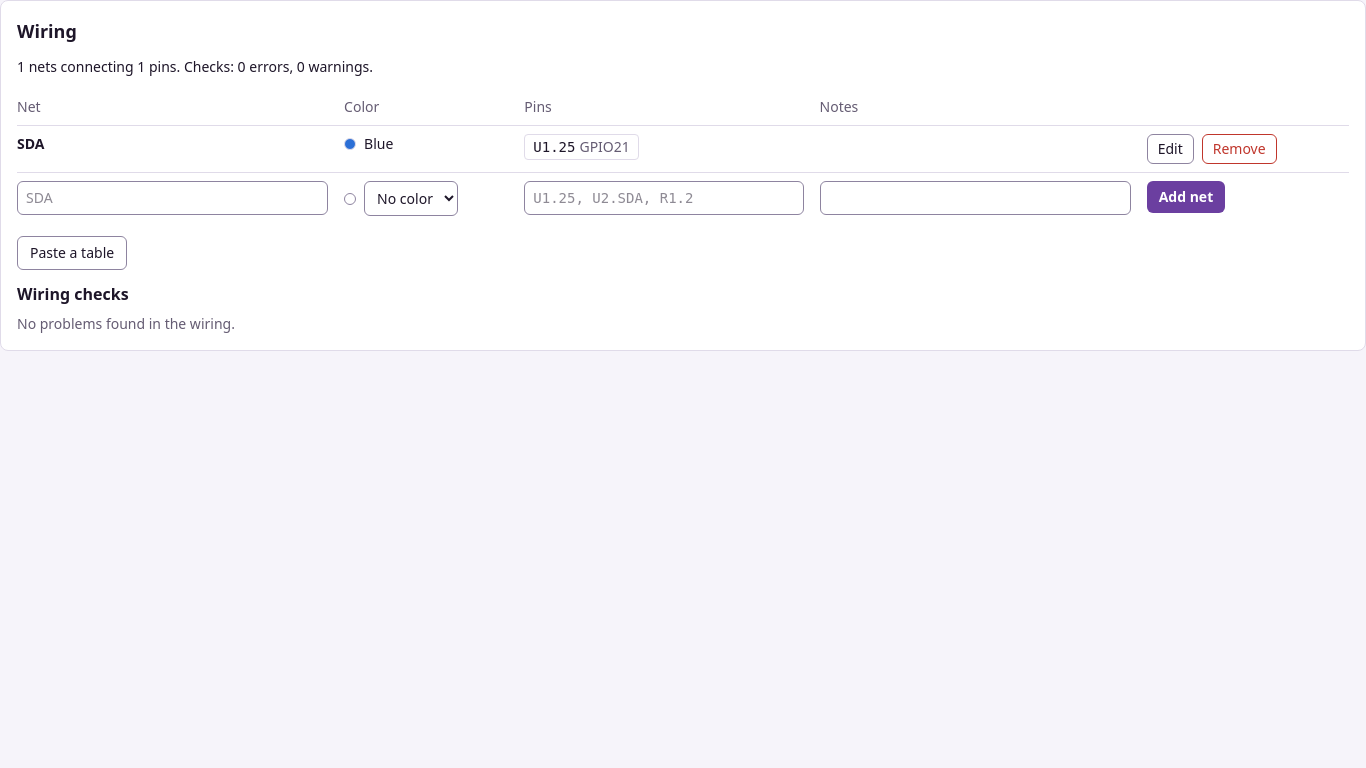
pasting wiring › closes without adding anything
Click the button "Paste a table" at coordinates (72, 253), box [17,236,127,270]
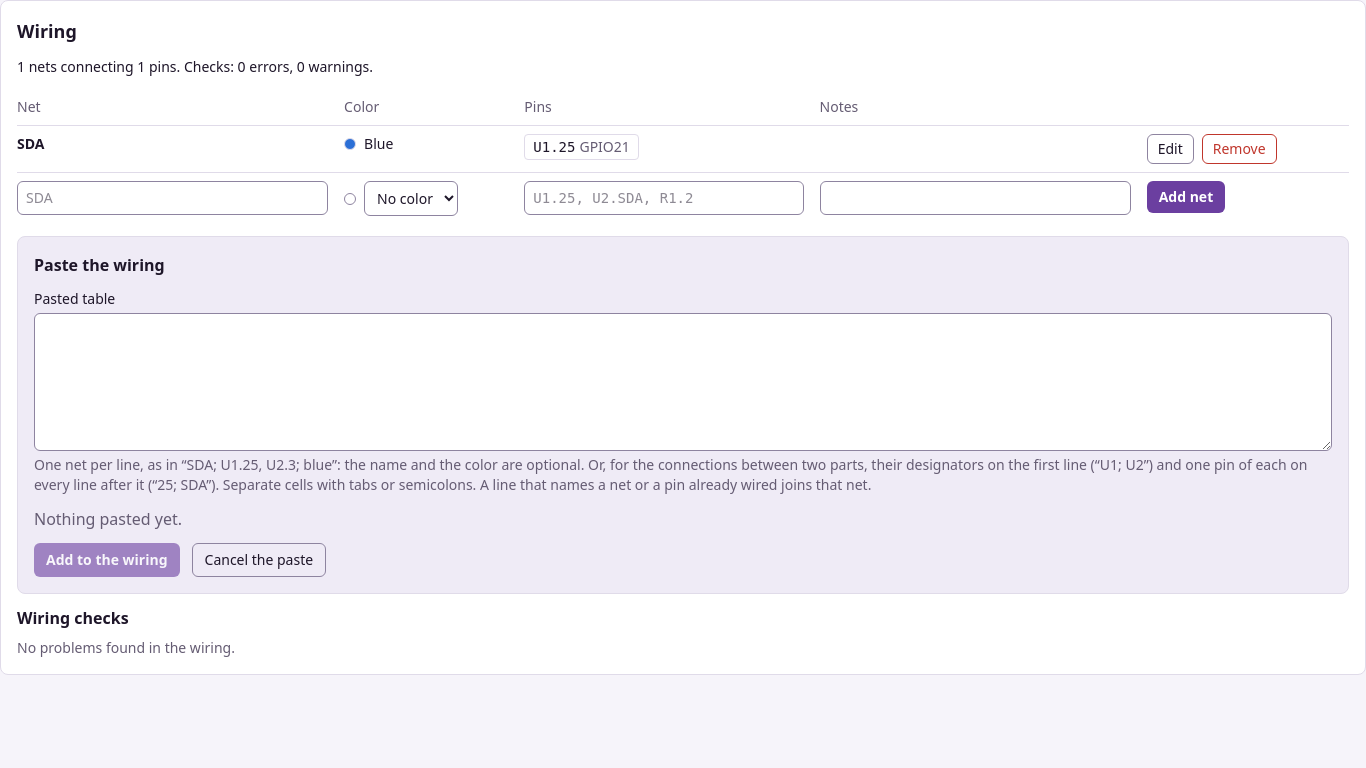
Click the button "Cancel the paste" at coordinates (259, 560), box [192,543,326,577]
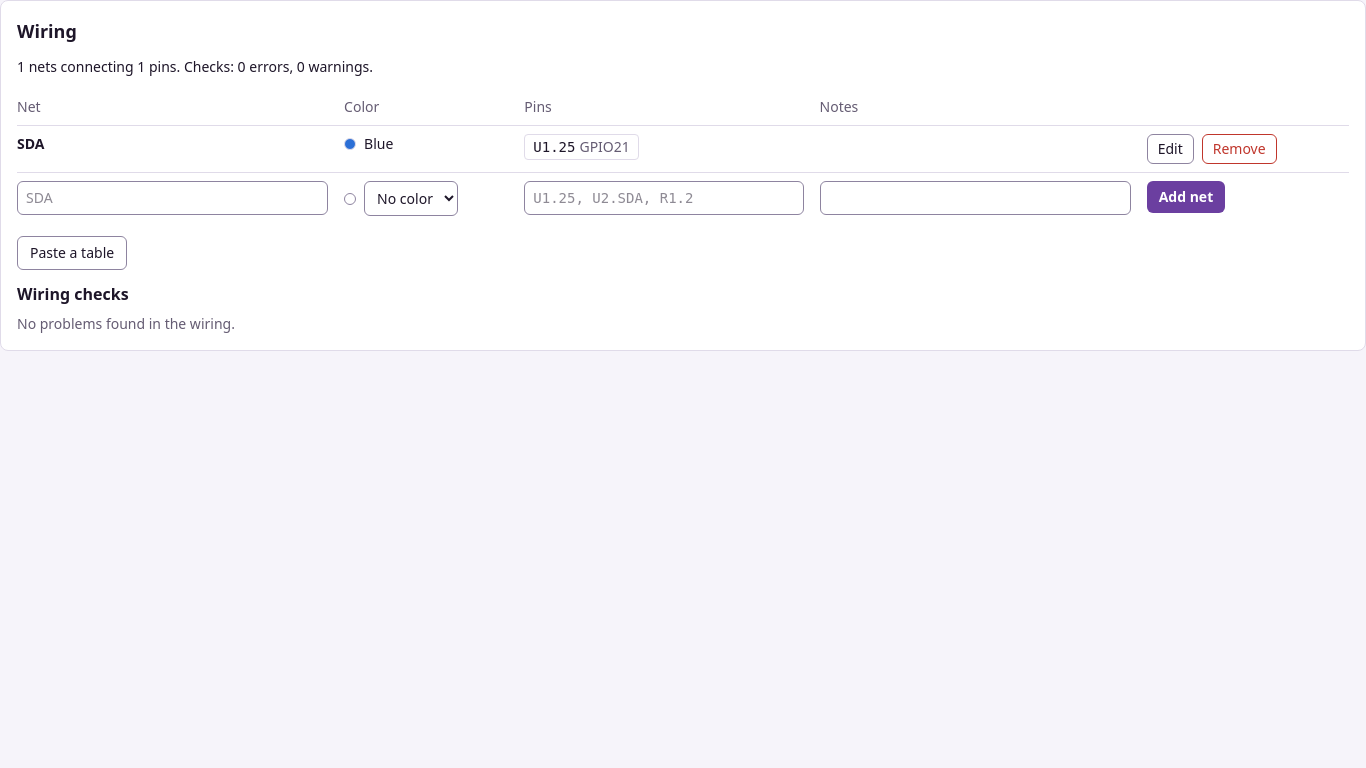
expect the heading "Paste the wiring" is gone: met
